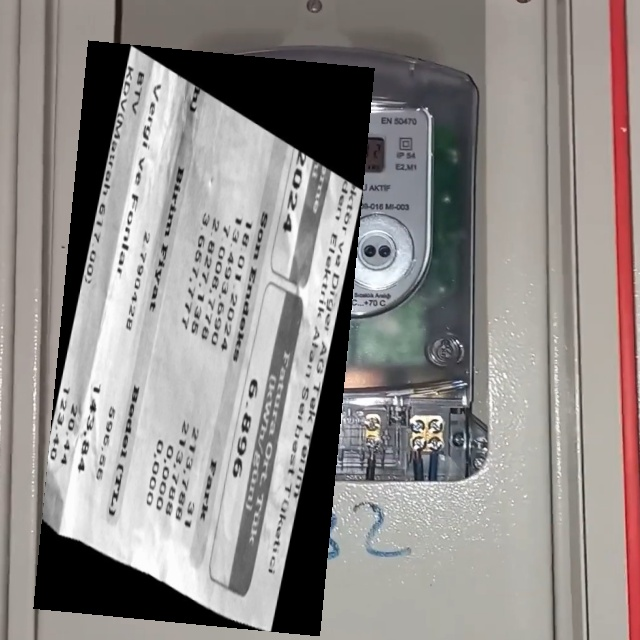electricity-bill: (33, 40, 375, 636)
